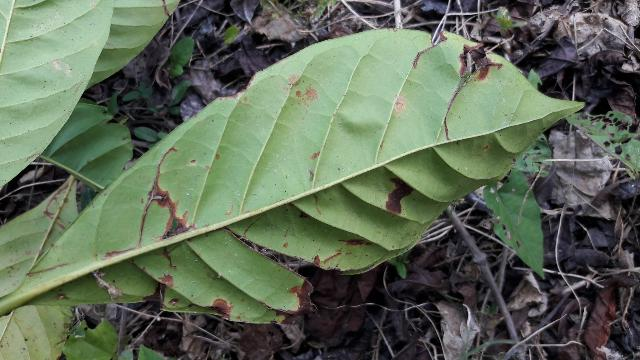red_spider_mite: (14, 28, 585, 322)
